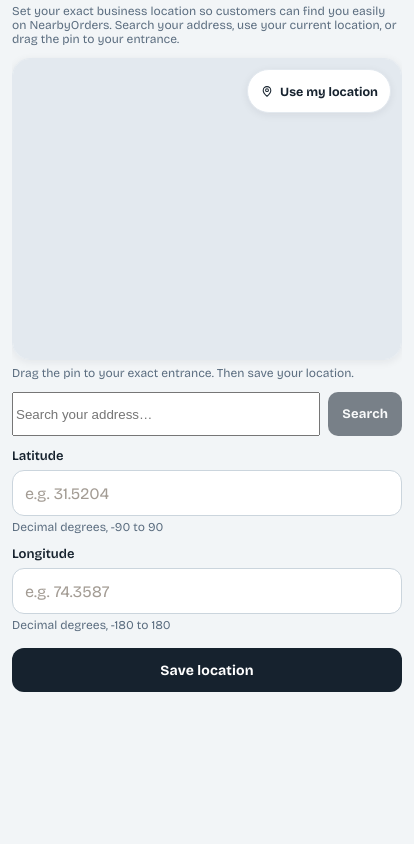
Test case: OwnerLocation map picker (Phase 12) › address search with no matches shows an honest error
Check: the button "Save location" is shown, box [12,648,402,692]
Type "zzz-nowhere" into the field named "Search address". click: {"x": 166, "y": 414}
box: [12,392,320,436]
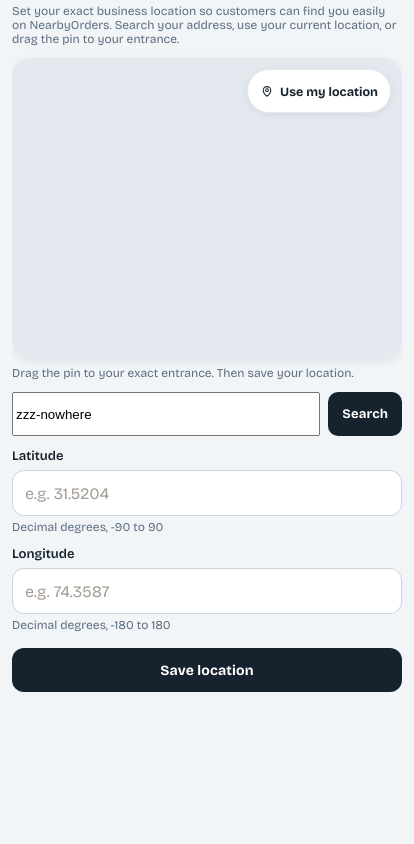
Click the button "Search". click: {"x": 365, "y": 414}
box: [328,392,402,436]
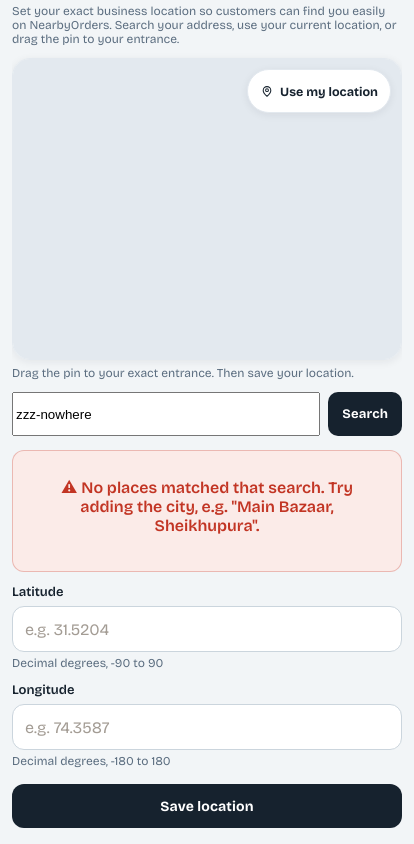
Check: the text "No places matched that search" is shown, box [80,478,353,535]
